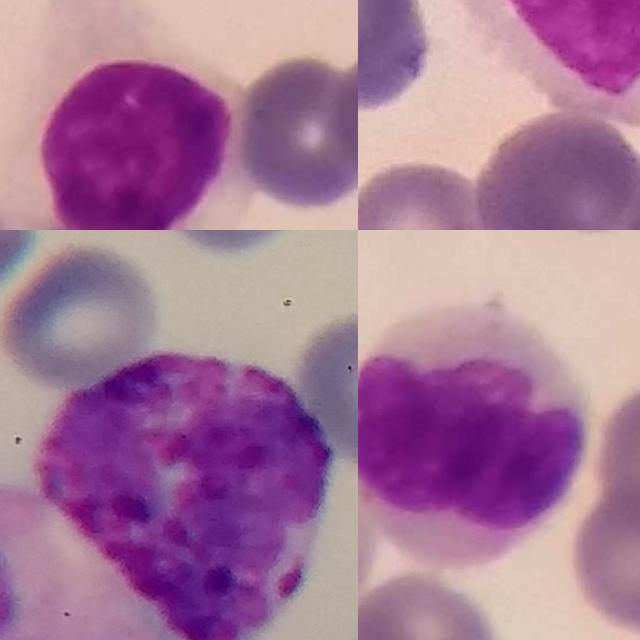Basophil: (40, 354, 343, 640)
Lymphocyte: (0, 0, 249, 230)
Monocyte: (358, 302, 591, 567), (443, 0, 640, 128)
Neutrophil: (0, 486, 211, 640)
